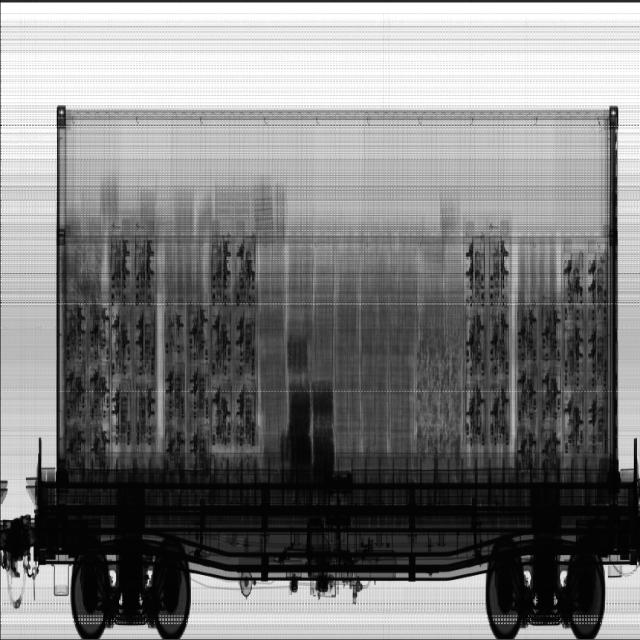clothes: (290, 344, 333, 472)
textiles: (259, 185, 465, 459)
